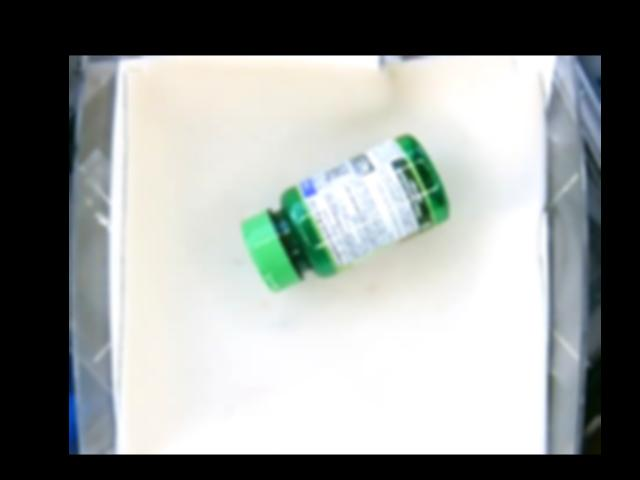Bottle: (242, 131, 451, 299)
